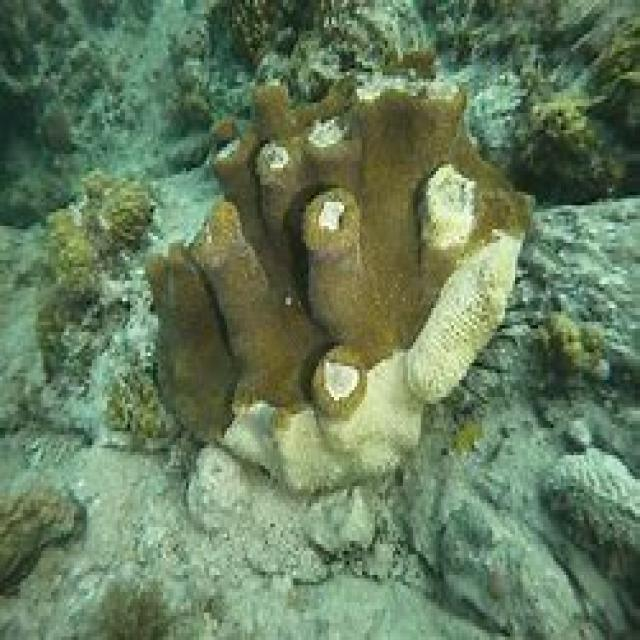Coral: (143, 47, 535, 498)
